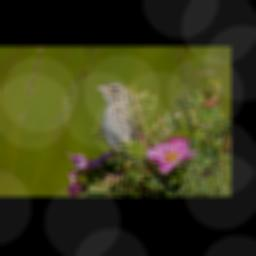Sparrow: (92, 79, 147, 165)
